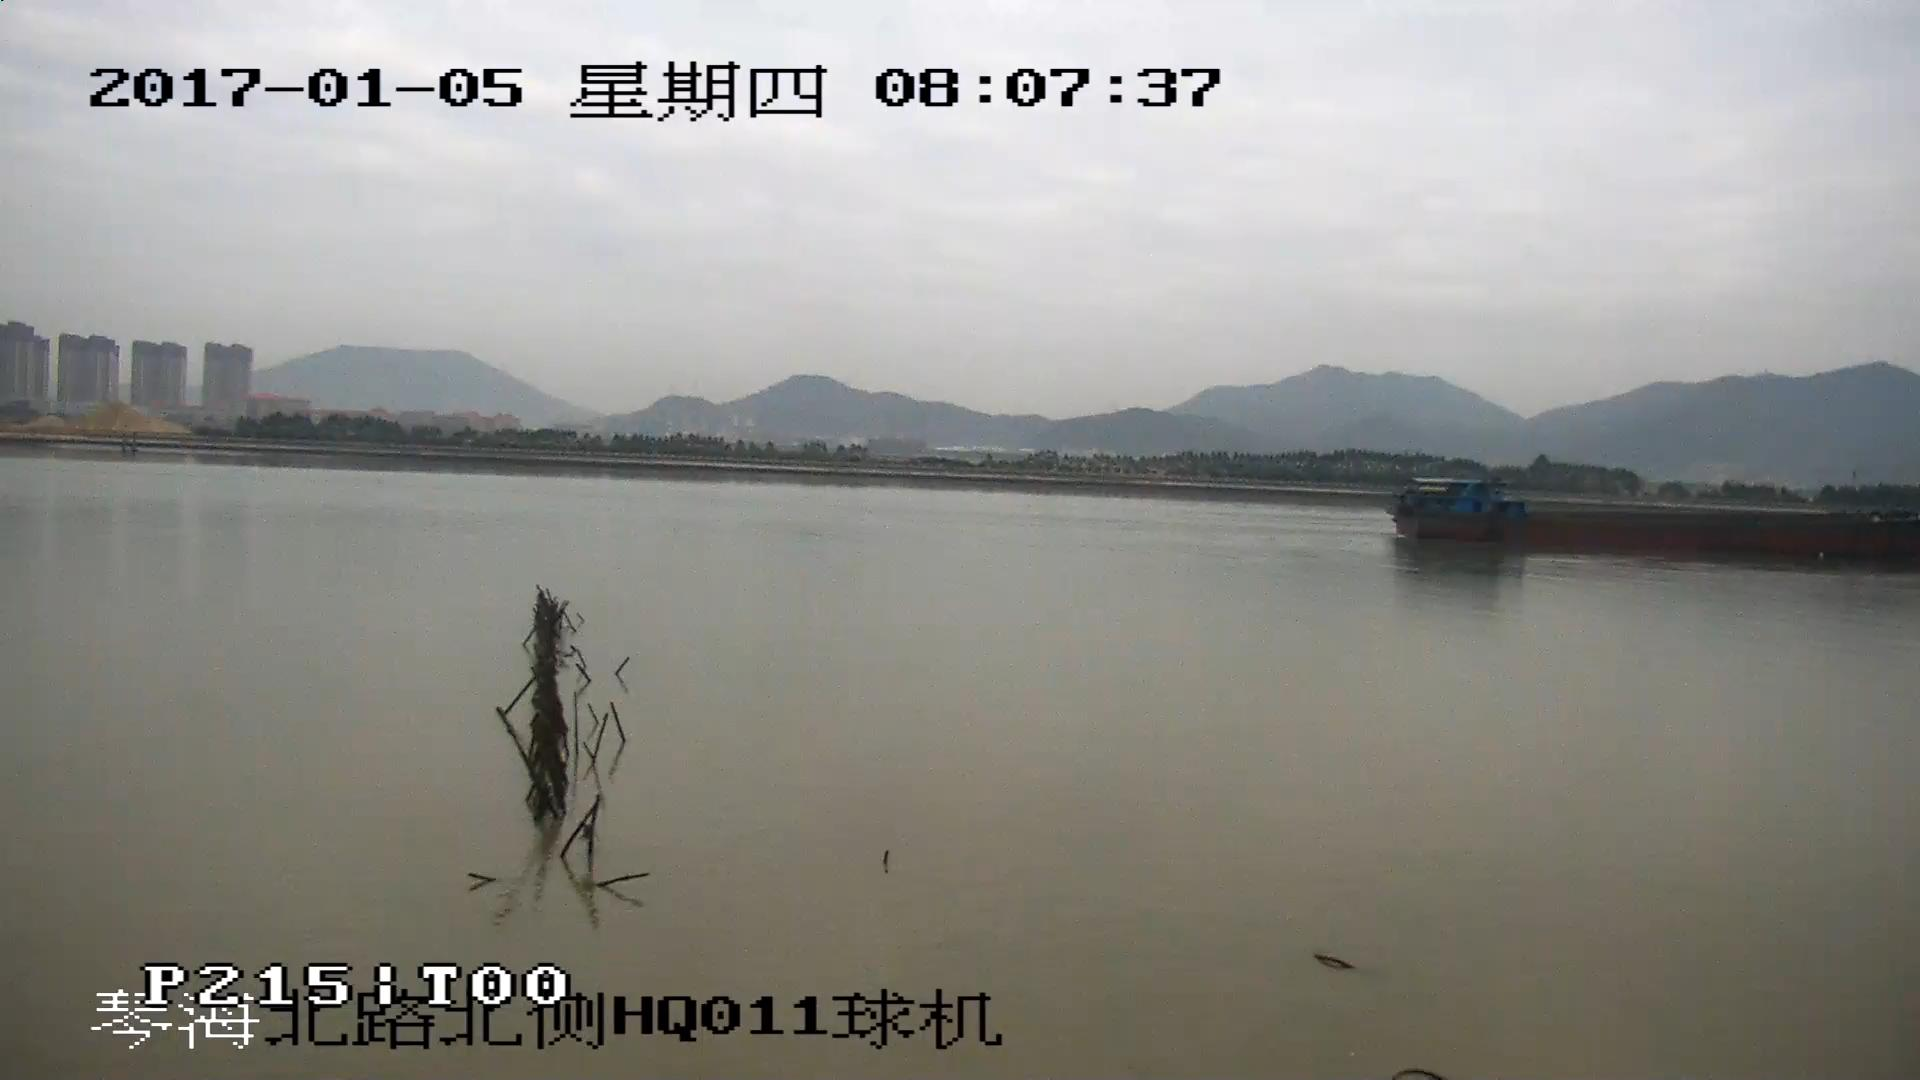bulk cargo carrier: (1387, 479, 1920, 558)
